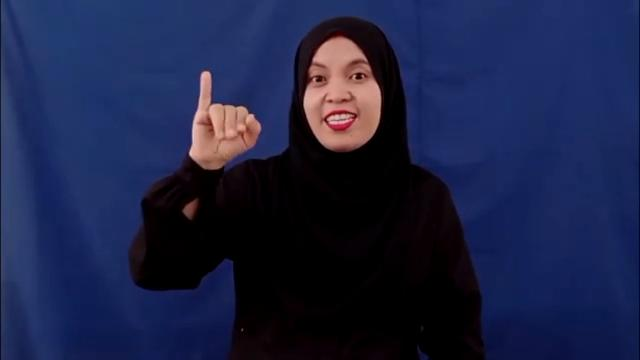I: (188, 72, 262, 162)
